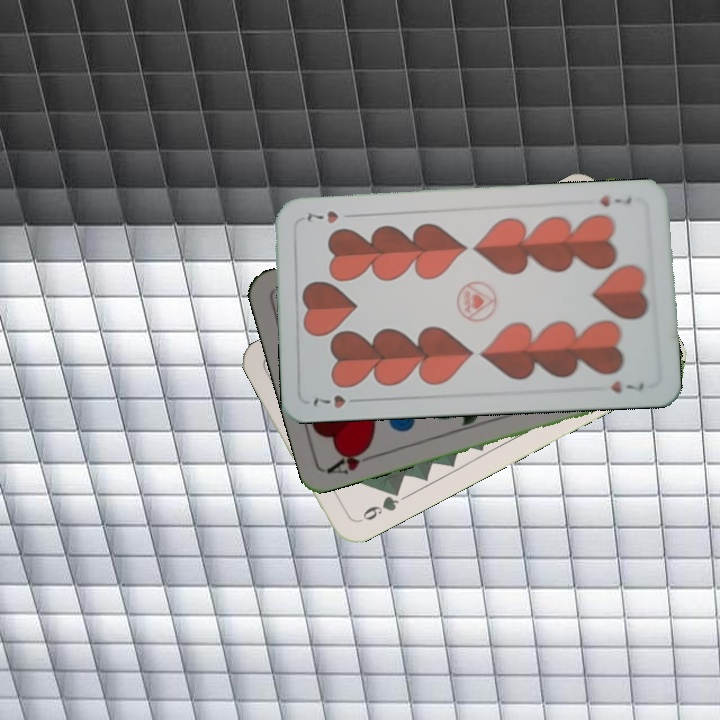G9: (351, 485, 403, 526)
H7: (308, 391, 365, 411), (595, 192, 634, 209)
HA: (324, 442, 382, 477)
